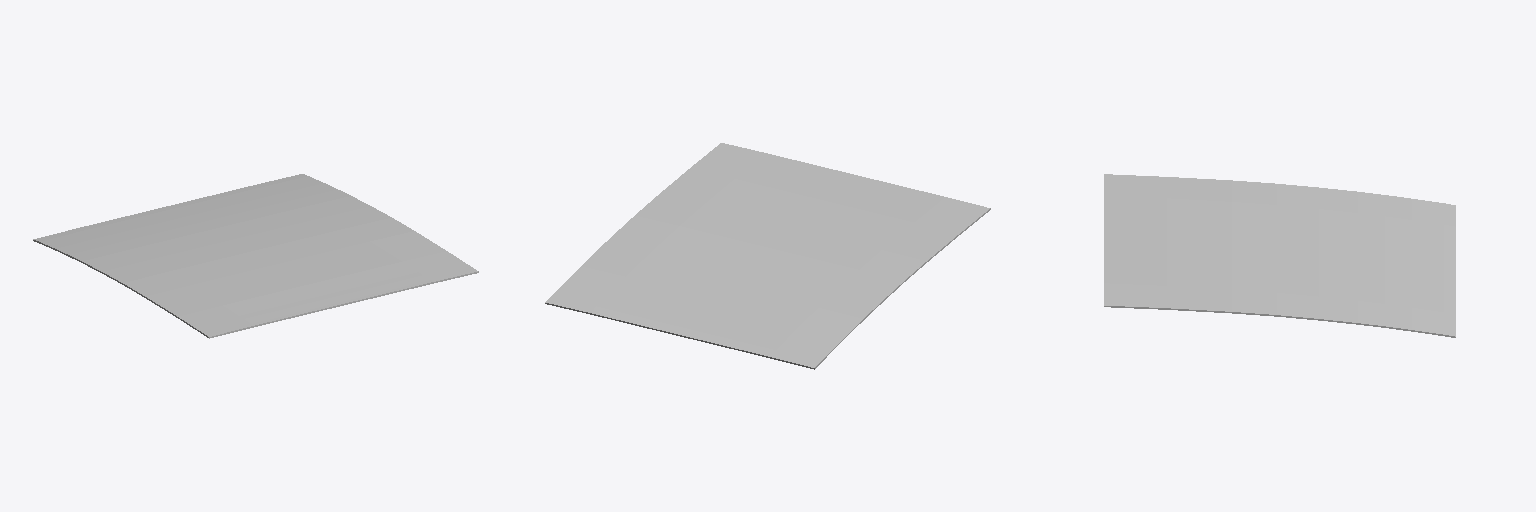
The model's file is hood.obj.
3 renders of one model, left to right at view 1: azimuth 30°, elevation 25°; view 2: azimuth 150°, elevation 25°; view 3: azimuth 270°, elevation 25°, orthographic.
Visible parts, largest first — view 1: Hood.002_Plane.022; view 2: Hood.002_Plane.022; view 3: Hood.002_Plane.022.
Part boxes in pixels (x1,y1,x2,y2): Hood.002_Plane.022: (33, 174, 478, 338); Hood.002_Plane.022: (545, 143, 990, 369); Hood.002_Plane.022: (1104, 174, 1455, 337).
Bounding box in the file's own units: 1.11 × 0.1306 × 1.26.